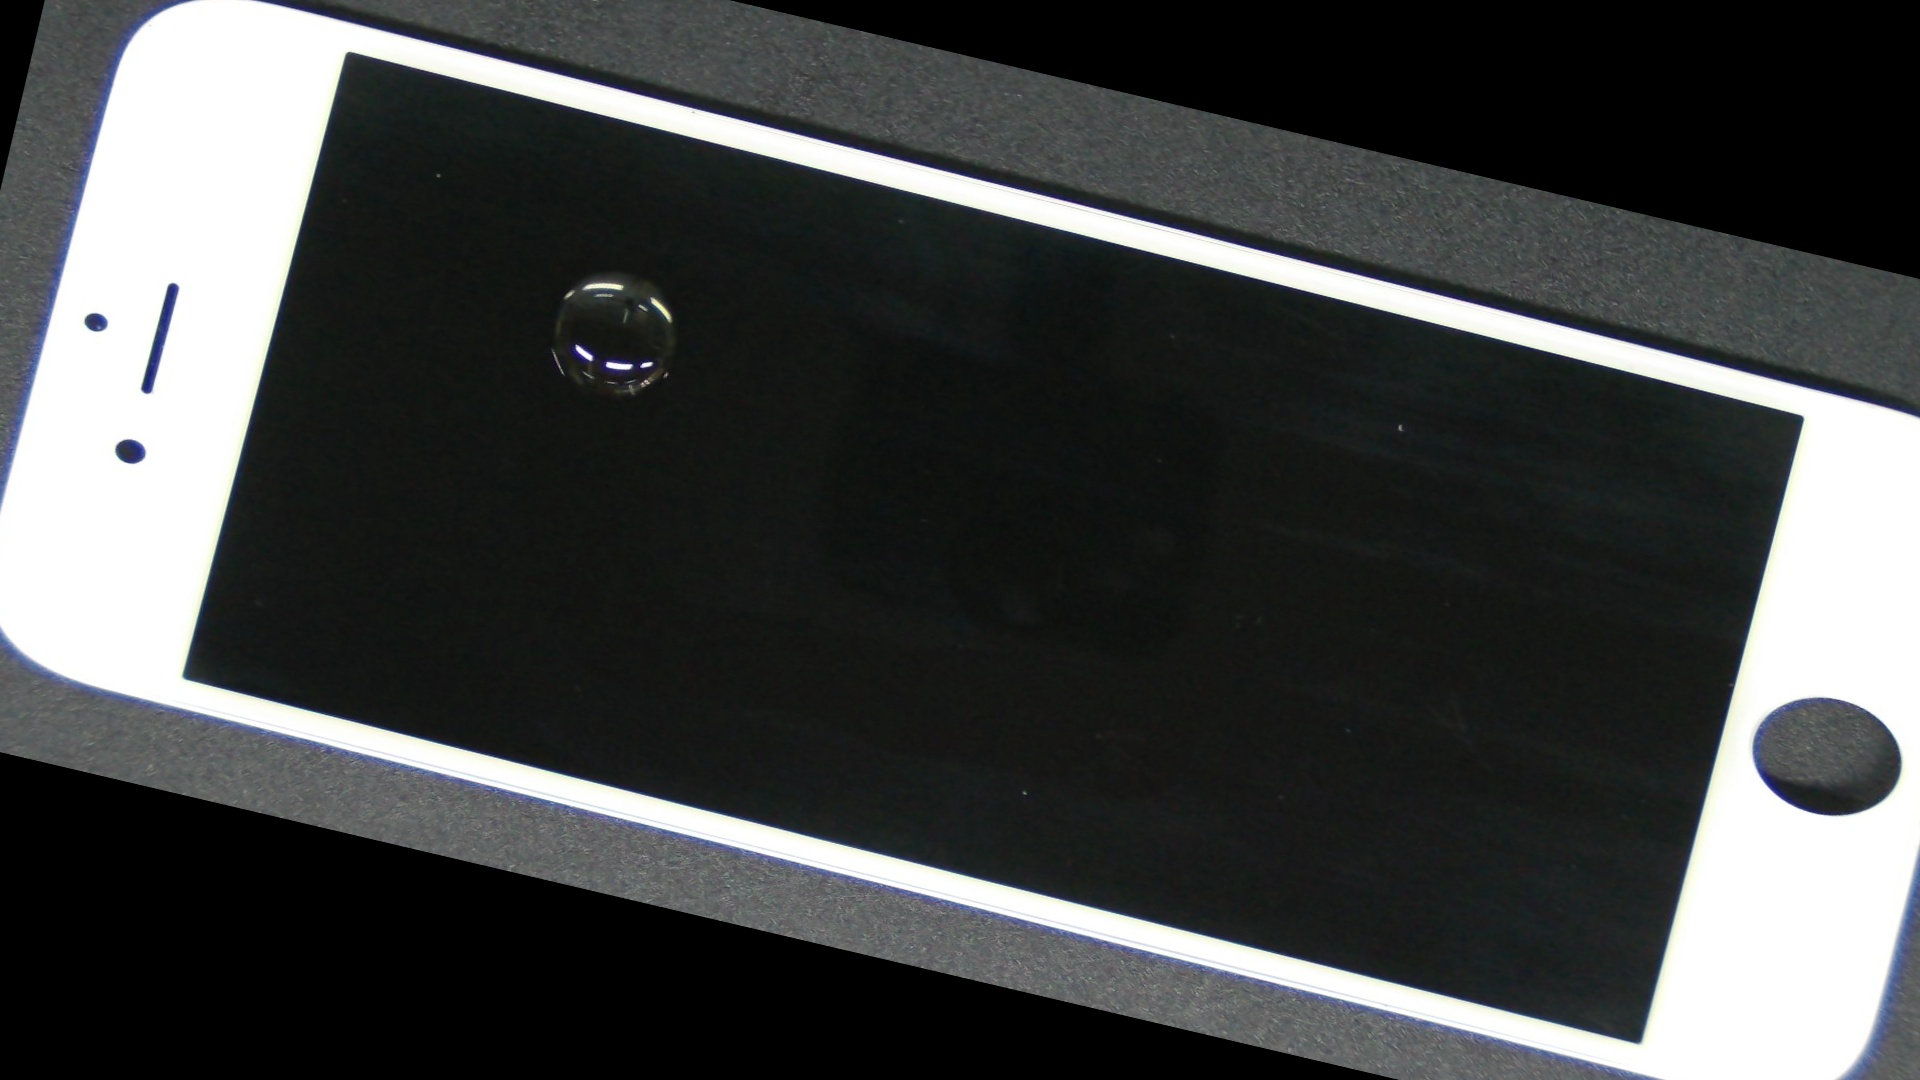oil: (287, 61, 965, 485)
